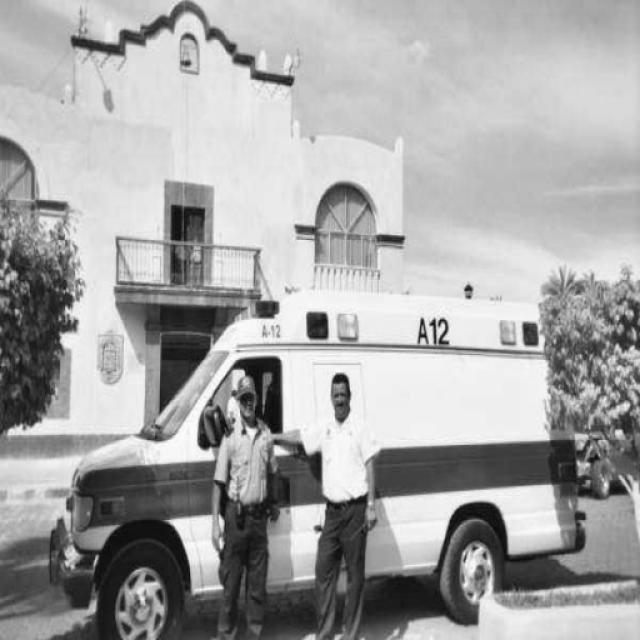Ambulance: (51, 293, 584, 640)
